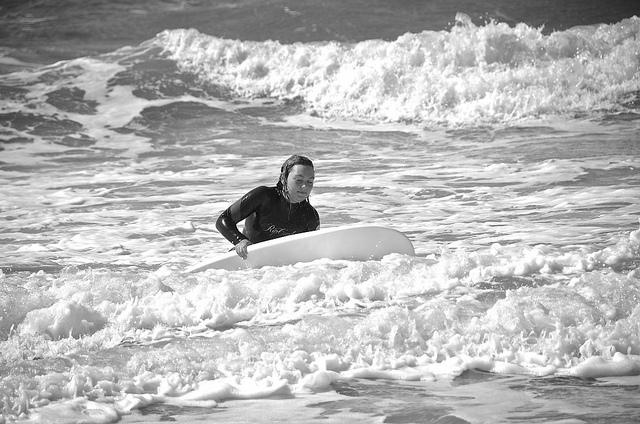person: (215, 153, 323, 262)
